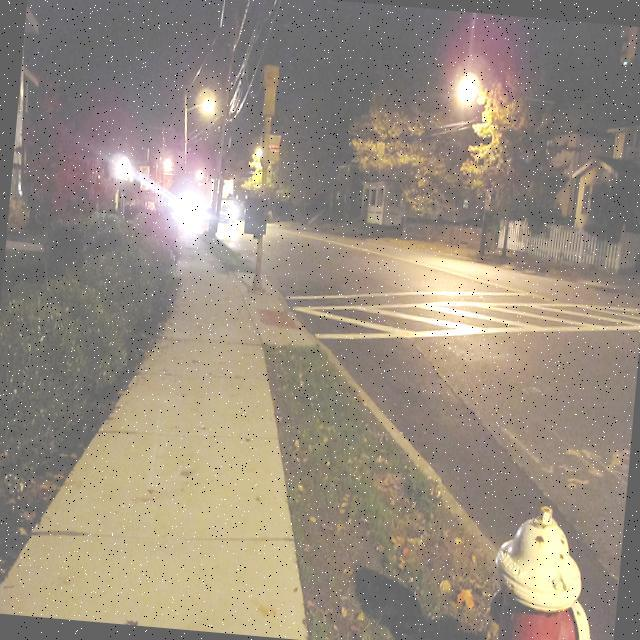fire_hydrant: (485, 502, 601, 640)
